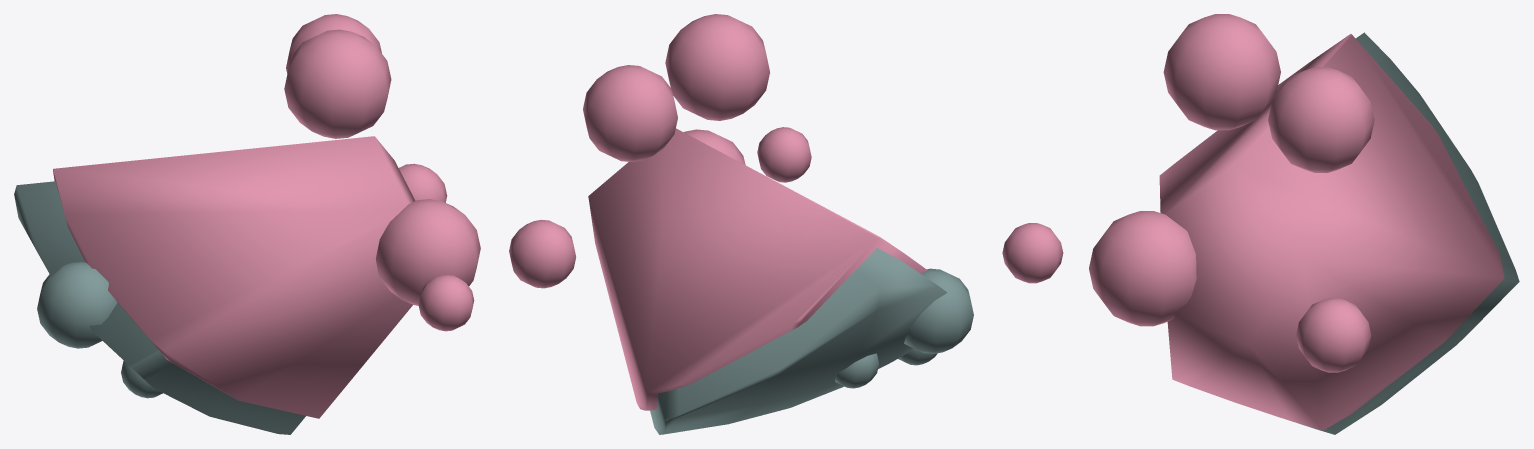
Rendered from chunk31.glb.
The picture shows the model from 3 angles, left to right: view 1: azimuth 30°, elevation 25°; view 2: azimuth 150°, elevation 25°; view 3: azimuth 270°, elevation 25°; orthographic projection. The views are drawn at different scales.
Parts seen in each view (by area): view 1: flesh, skin; view 2: flesh, skin; view 3: flesh, skin.
Part boxes in pixels (x1,y1,x2,y2): flesh: (53, 14, 480, 418); skin: (14, 181, 305, 434); flesh: (509, 14, 927, 410); skin: (650, 248, 973, 434); flesh: (1002, 14, 1504, 430); skin: (1299, 32, 1519, 434).
Bounding box in the file's own units: 0.9256 × 0.7859 × 0.8985.
